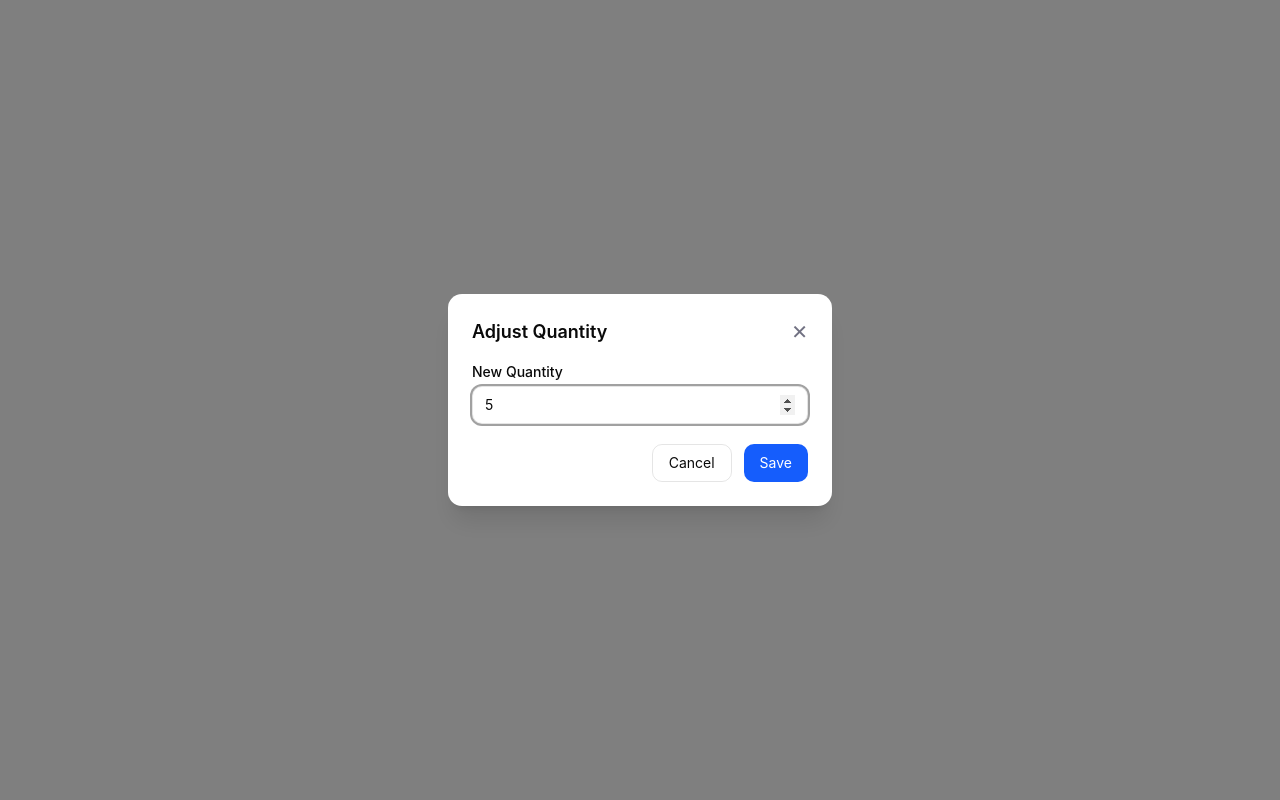
AdjustQuantityModal › exact quantity mode › shows fallback error when no message in failure response
This screenshot has width=1280, height=800.
Click the button "Save" at (776, 463), box x1=744 y1=444 x2=808 y2=482
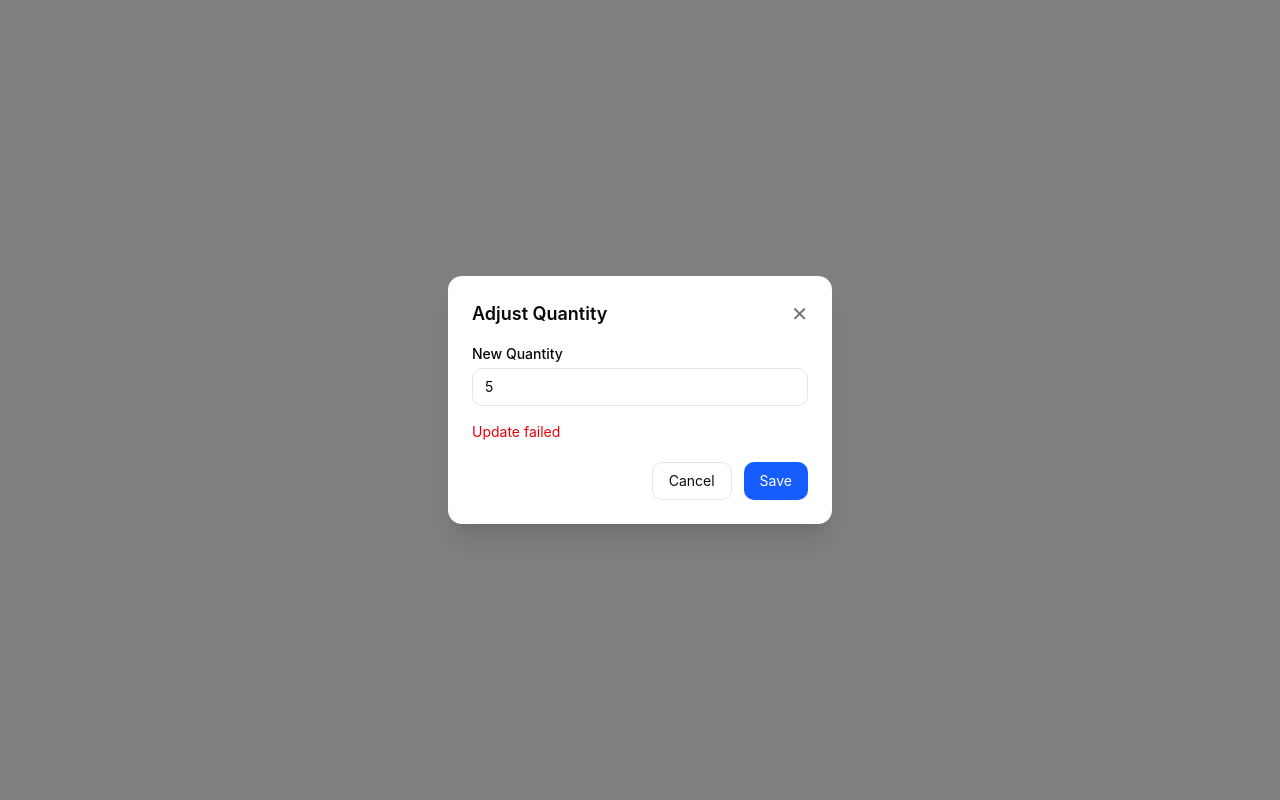
Expected: the text "Update failed" is shown, x1=472 y1=423 x2=560 y2=440
